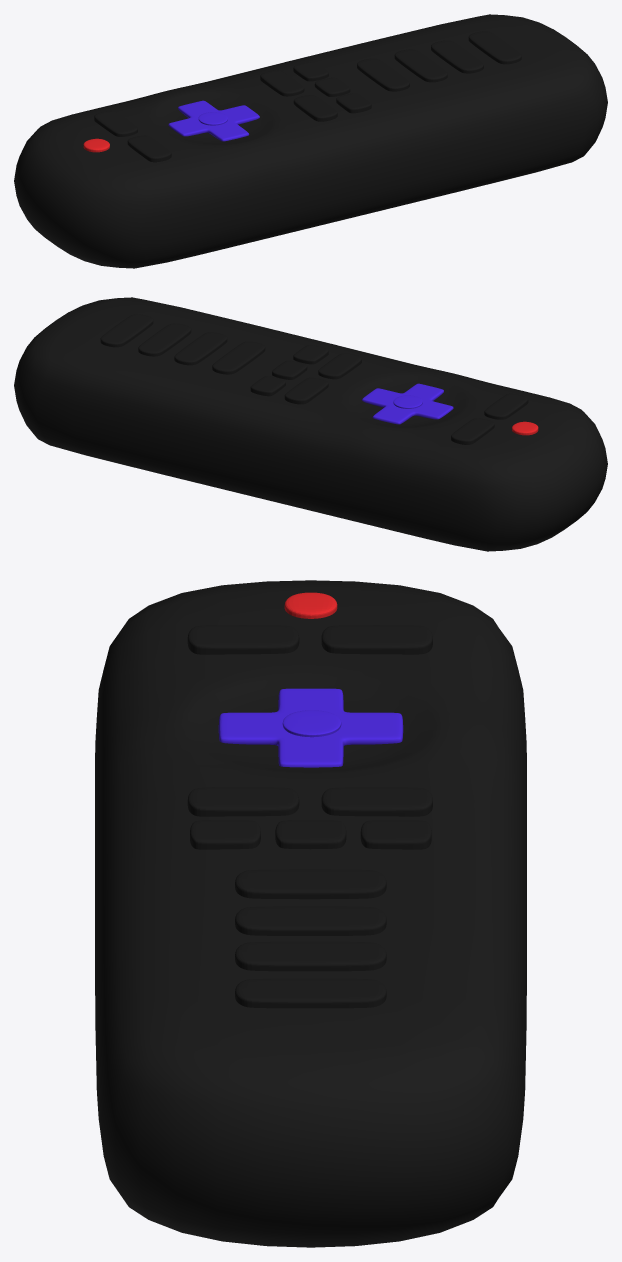
Rendered from tvRemote (1).fbx.
3 renders of one model, top to bottom at view 1: azimuth 30°, elevation 25°; view 2: azimuth 150°, elevation 25°; view 3: azimuth 270°, elevation 25°, orthographic. The views are drawn at different scales.
Visible parts, largest first — view 1: Cube, Cube.012, Cube.009, Cube.011, Cube.008, Cube.010, Cube.001, Cube.003, Cube.004, Cube.002, Cube.007, Cube.006 (+1 smaller); view 2: Cube, Cube.012, Cube.011, Cube.009, Cube.008, Cube.010, Cube.004, Cube.002, Cube.001, Cube.003, Cube.006, Cube.007 (+1 smaller); view 3: Cube, Cube.012, Cube.011, Cube.010, Cube.008, Cube.009, Cube.001, Cube.003, Cube.002, Cube.004, Cube.006, Cube.007 (+3 smaller).
Boxes of the visible parts, x1,y1,x2,y2 form: Cube: (14, 14, 607, 268); Cube.012: (168, 100, 259, 141); Cube.009: (394, 49, 447, 82); Cube.011: (468, 31, 521, 64); Cube.008: (357, 58, 409, 91); Cube.010: (431, 40, 483, 73); Cube.001: (127, 135, 171, 162); Cube.003: (293, 95, 337, 121); Cube.004: (260, 70, 304, 96); Cube.002: (94, 111, 137, 136); Cube.007: (336, 93, 371, 113); Cube.006: (293, 62, 328, 81); Cube: (14, 297, 607, 551); Cube.012: (362, 383, 453, 424); Cube.011: (100, 314, 153, 347); Cube.009: (174, 332, 227, 365); Cube.008: (212, 341, 265, 374); Cube.010: (138, 323, 191, 356); Cube.004: (284, 377, 328, 404); Cube.002: (451, 418, 494, 444); Cube.001: (484, 393, 528, 419); Cube.003: (318, 353, 361, 379); Cube.006: (250, 376, 285, 396); Cube.007: (293, 345, 328, 364); Cube: (95, 580, 526, 1247); Cube.012: (218, 688, 403, 767); Cube.011: (235, 978, 386, 1008); Cube.010: (235, 941, 386, 971); Cube.008: (235, 869, 386, 899); Cube.009: (235, 906, 386, 935); Cube.001: (187, 625, 299, 654); Cube.003: (187, 787, 299, 816); Cube.002: (321, 625, 432, 654); Cube.004: (321, 787, 432, 816); Cube.006: (360, 820, 431, 849); Cube.007: (190, 820, 260, 849).
Bounding box in the file's own units: 834 × 154 × 283.
